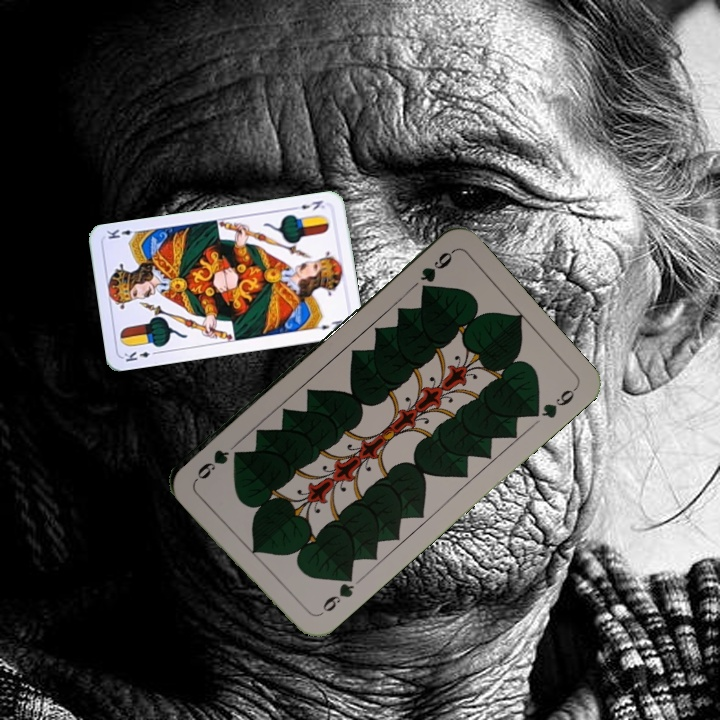EK: (120, 347, 161, 364), (289, 196, 327, 213)
G9: (312, 570, 358, 619), (416, 246, 457, 285)
